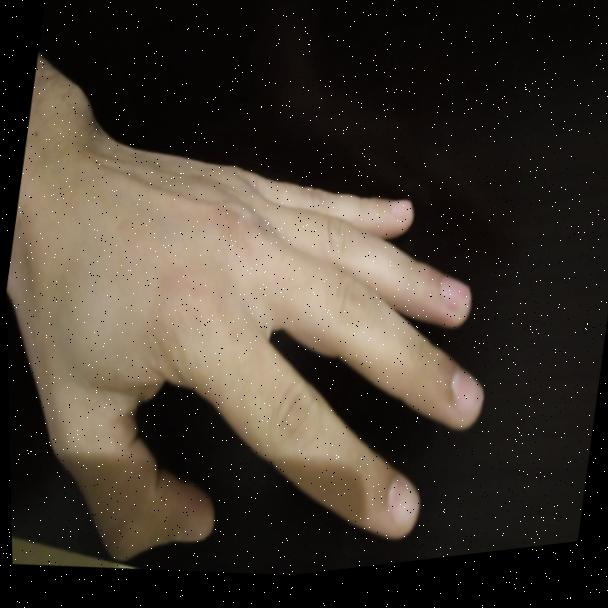five: (15, 90, 524, 607)
